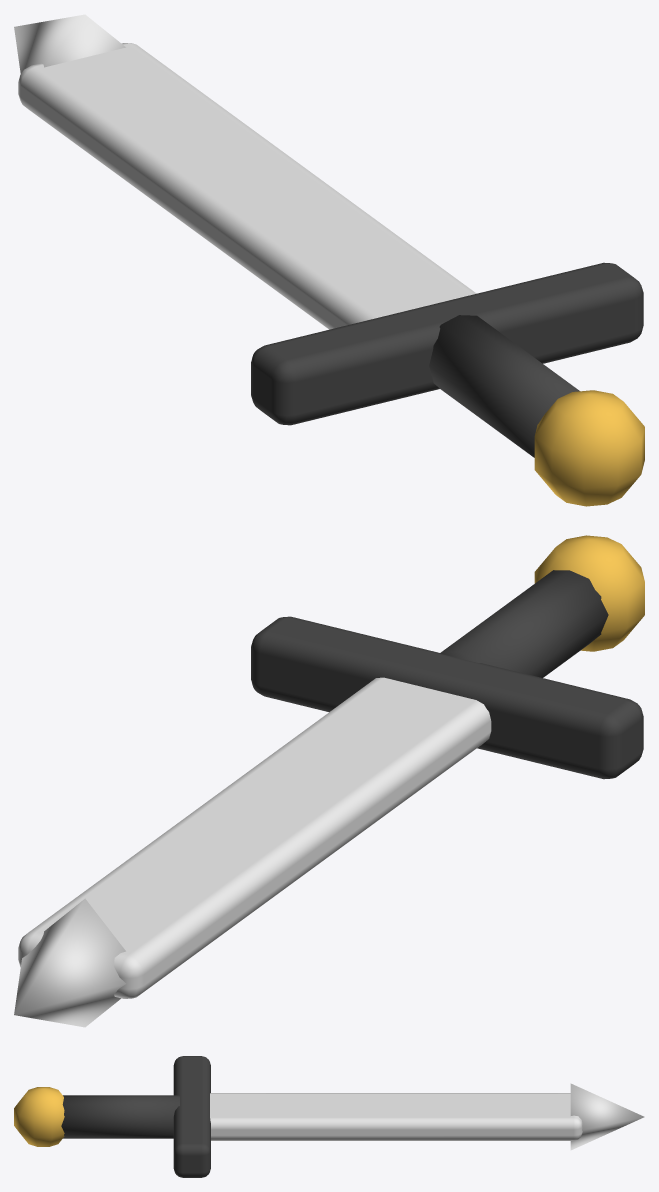
The model's file is sword.glb.
3 renders of one model, top to bottom at view 1: azimuth 30°, elevation 25°; view 2: azimuth 150°, elevation 25°; view 3: azimuth 270°, elevation 25°, orthographic. The views are drawn at different scales.
Parts seen in each view (by area): view 1: sword; view 2: sword; view 3: sword.
Part boxes in pixels (x1=…): sword: x1=14, y1=14, x2=644, y2=506; sword: x1=14, y1=535, x2=644, y2=1027; sword: x1=14, y1=1056, x2=644, y2=1177.
Bounding box in the file's own units: 0.36 × 0.12 × 1.02.
